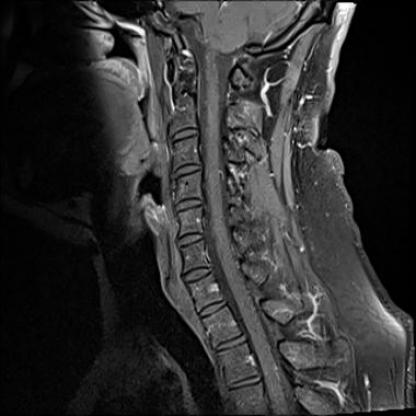Disc Bulgerotation: (180, 267, 214, 283), (173, 162, 203, 177)
